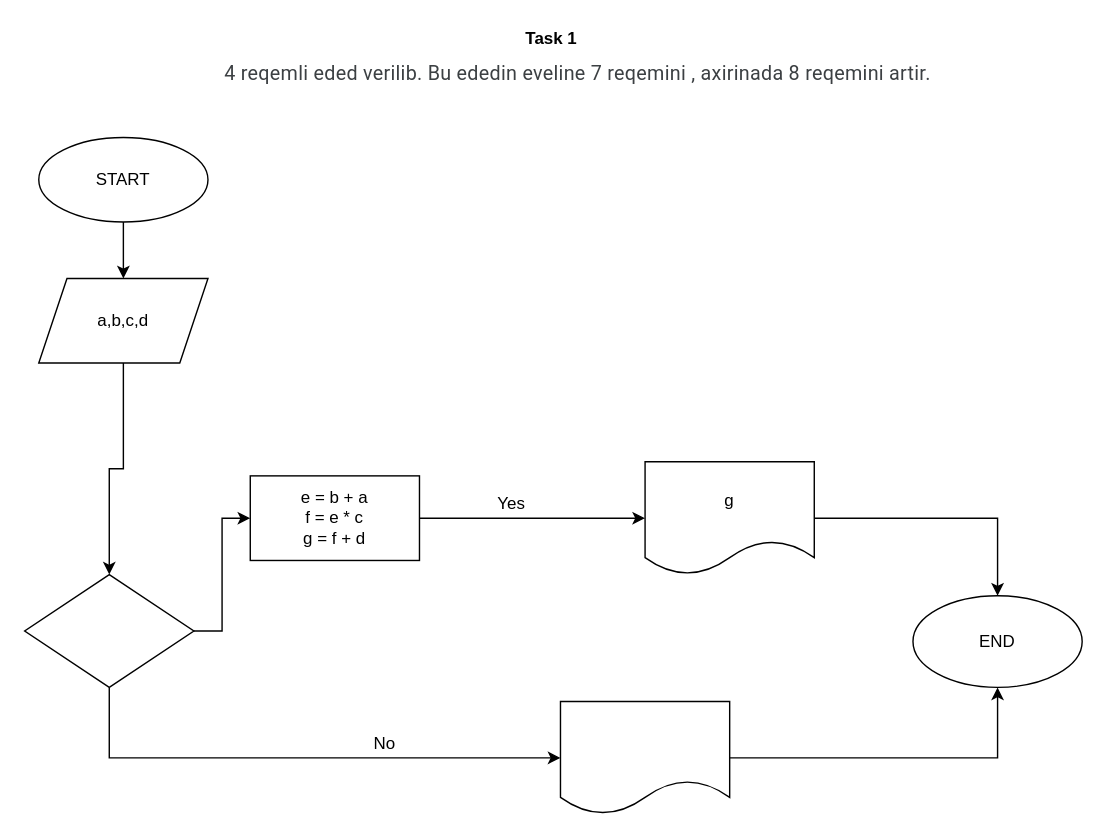
The diagram is 1107 pixels wide and 839 high, and some of its shapes have lost their labels. Here are the shapes that lost their labels. From the top down, the centre of each, then its label:
point (108, 630): a>=1000 a<=10000
point (644, 757): Yanlishdir
